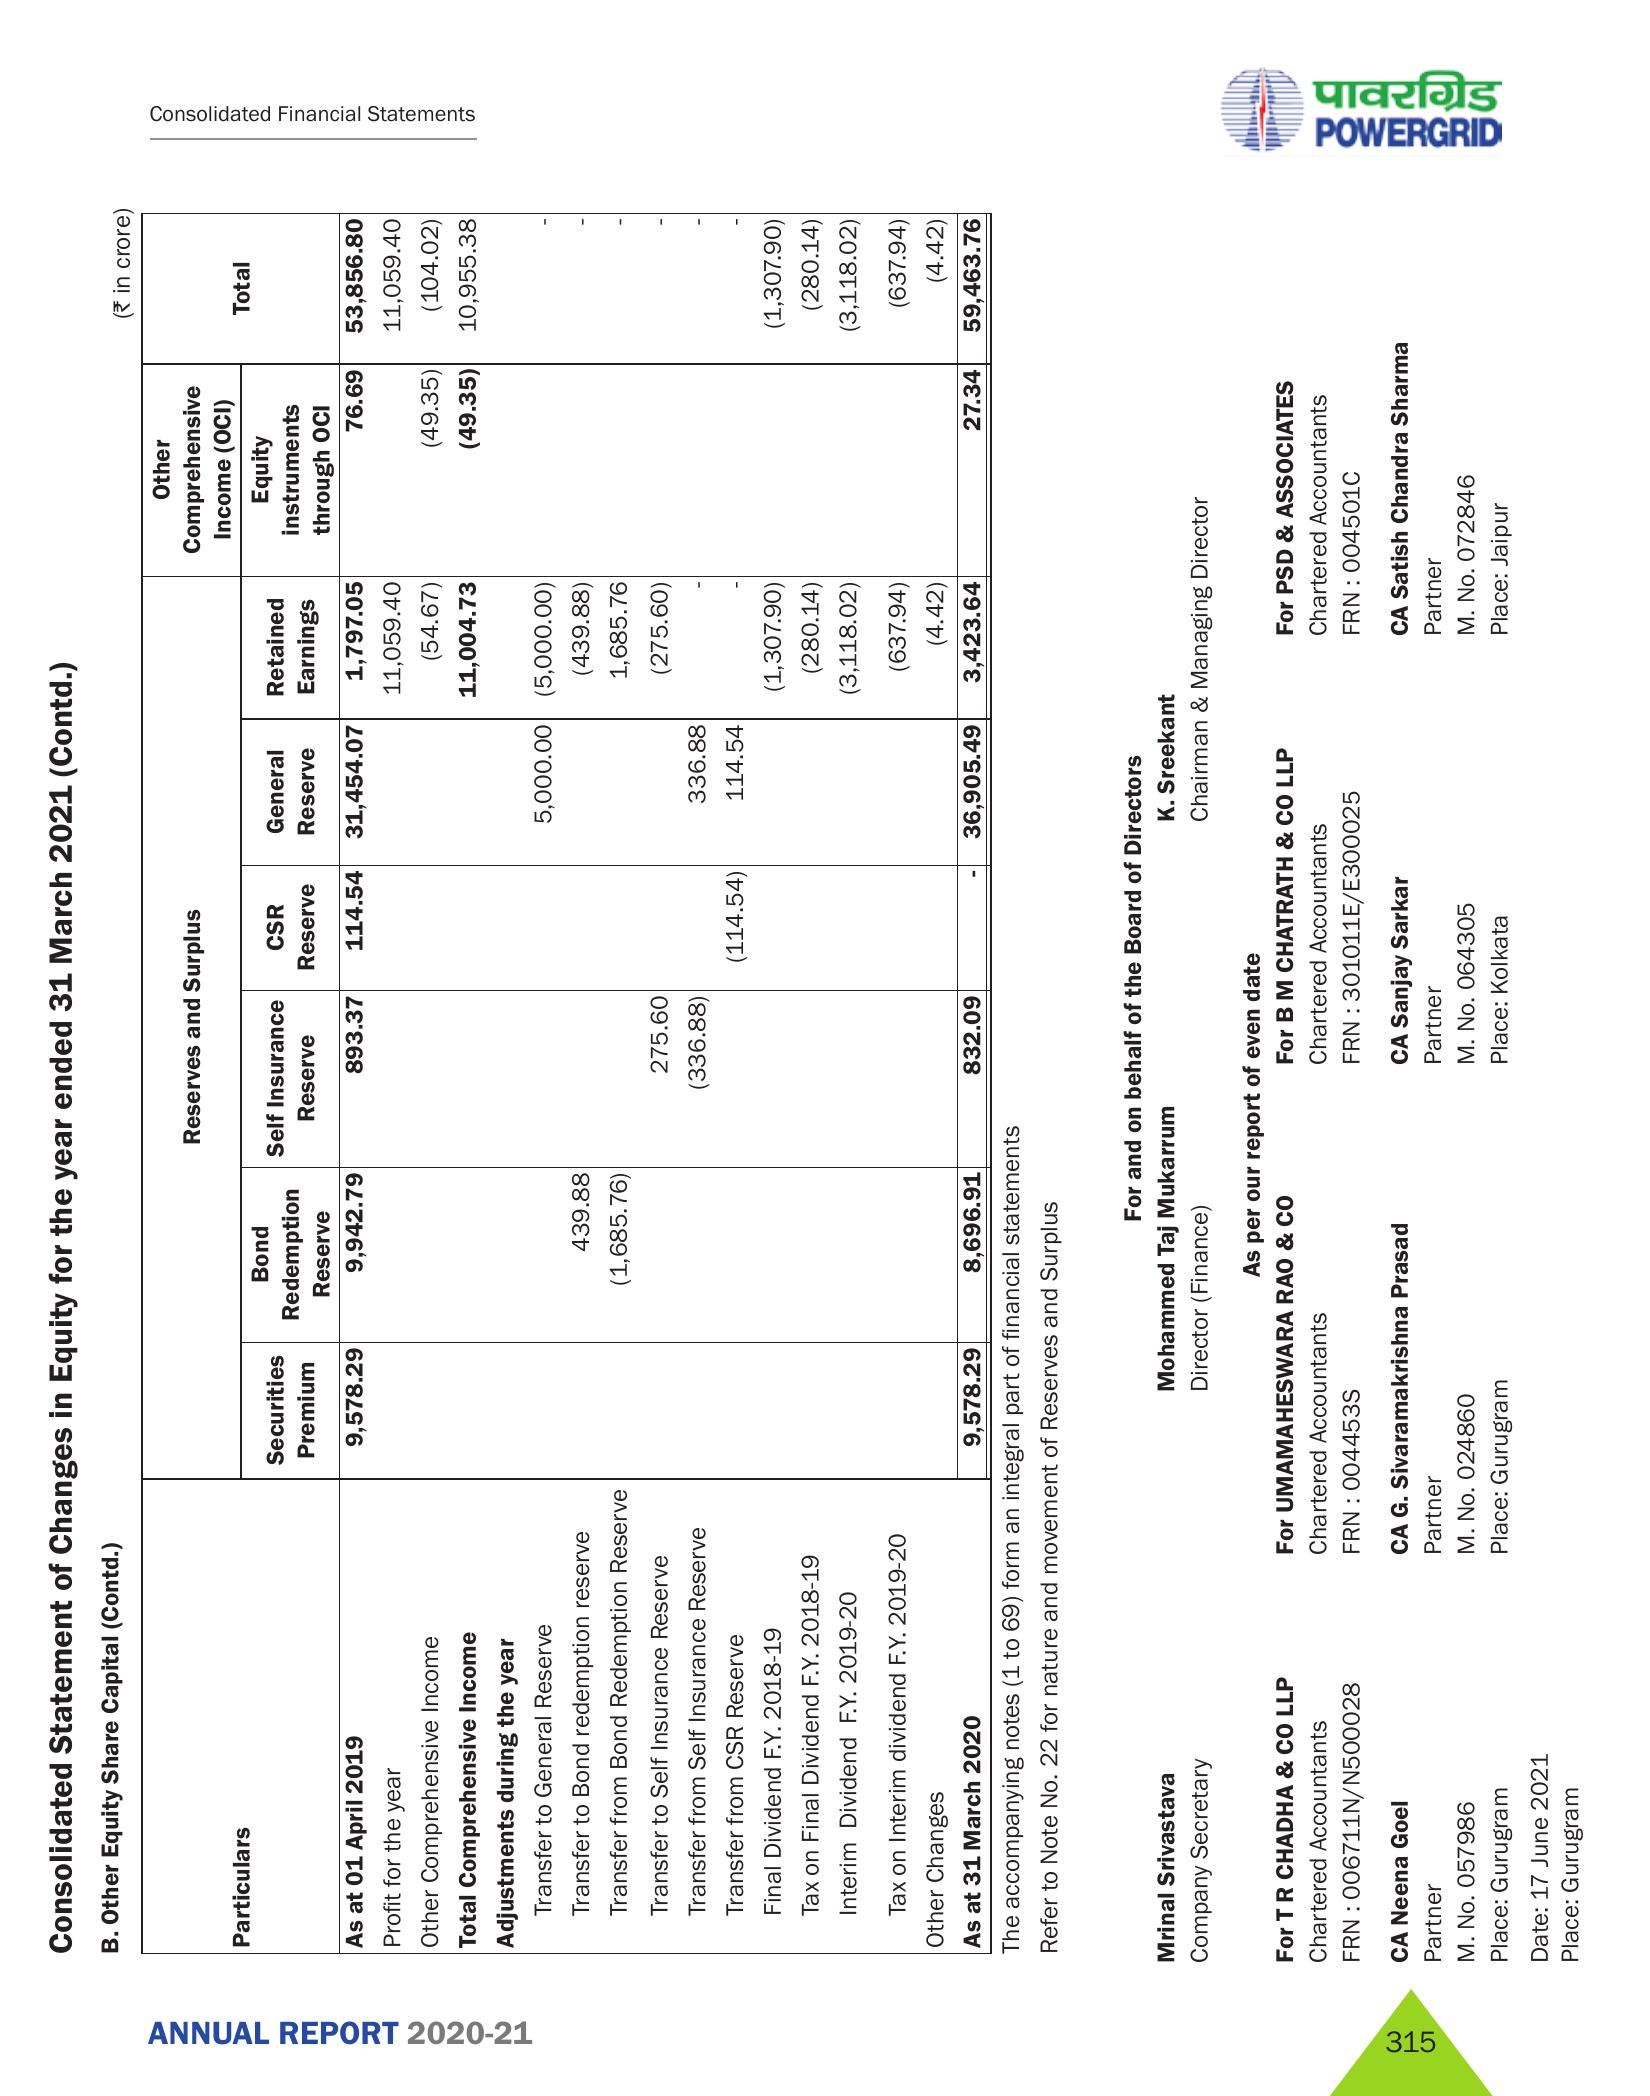Footer: (0, 1968, 1650, 2096)
Header: (0, 0, 1650, 158)
Table: (129, 201, 1000, 1974)
